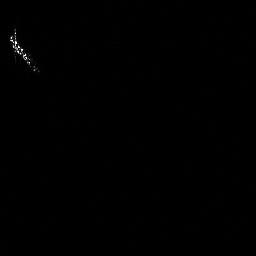ship: (5, 26, 42, 75)
